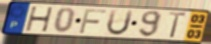0: (53, 7, 78, 34)
9: (138, 10, 163, 39)
F: (78, 8, 109, 35)
H: (24, 6, 55, 33)
T: (167, 11, 189, 39)
U: (105, 9, 135, 37)
